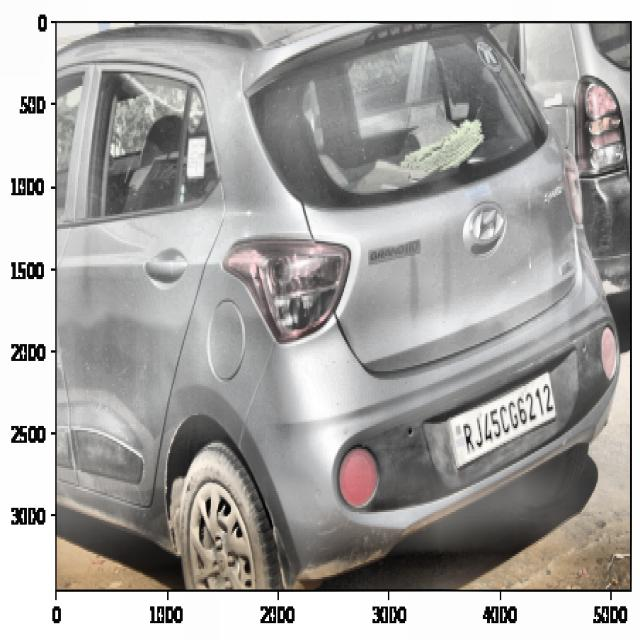license_plate: (456, 377, 558, 455)
